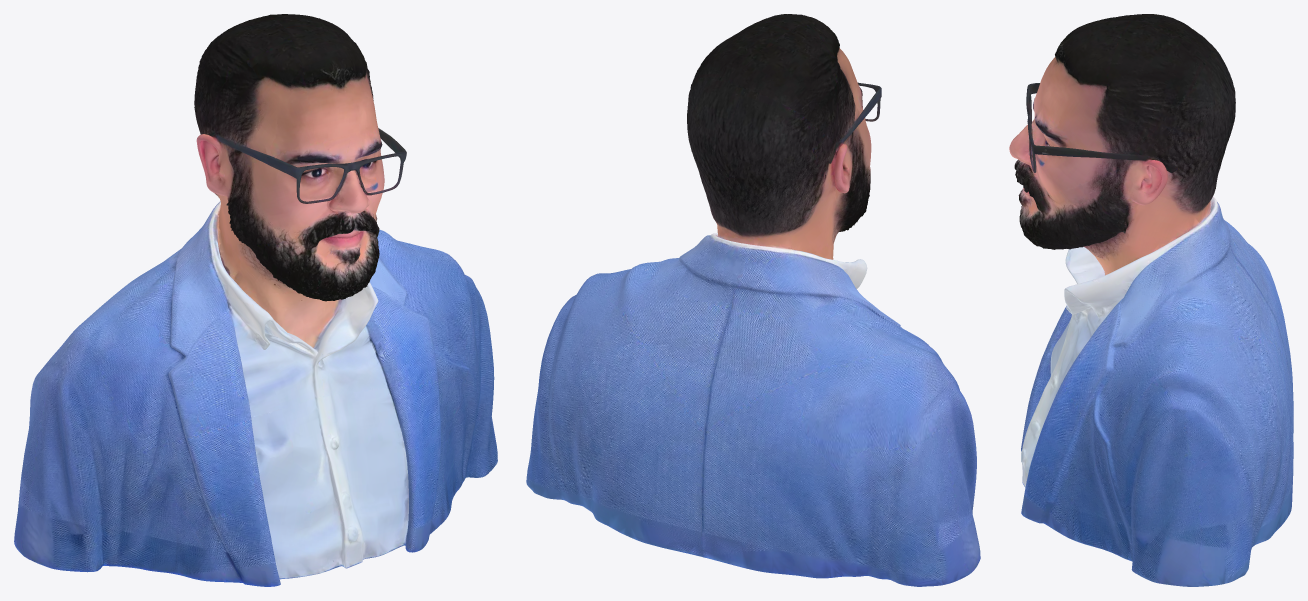
Rendered from jonatas.min.1k.glb.
3 renders of one model, left to right at view 1: azimuth 30°, elevation 25°; view 2: azimuth 150°, elevation 25°; view 3: azimuth 270°, elevation 25°, orthographic. The views are drawn at different scales.
Visible parts, largest first — view 1: mesh_node; view 2: mesh_node; view 3: mesh_node.
Boxes of the visible parts, bbox=[...] form: mesh_node: bbox=[14, 14, 497, 586]; mesh_node: bbox=[526, 14, 980, 586]; mesh_node: bbox=[1009, 14, 1293, 586].
Size of the model in its own units: 1.84 by 1.9 by 1.06.
1 material, 1 textured.
